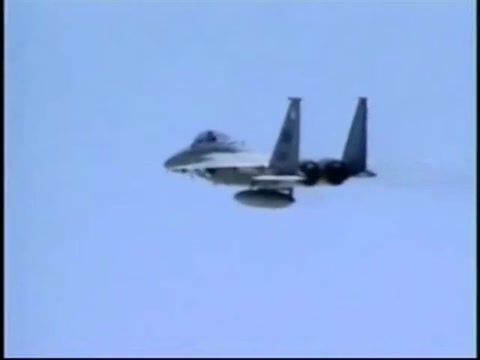aeroplane: (163, 97, 377, 209)
